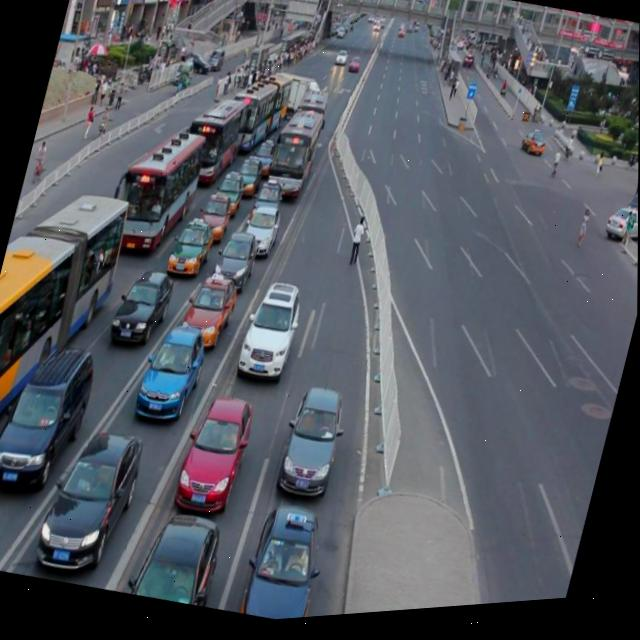bus: (264, 70, 324, 126)
car: (33, 419, 148, 582), (0, 337, 101, 498), (235, 502, 334, 626), (172, 390, 258, 522), (129, 503, 226, 614), (271, 383, 353, 507), (133, 320, 212, 429), (235, 277, 307, 385), (109, 263, 177, 352), (176, 269, 241, 357), (165, 213, 217, 284), (210, 230, 261, 298), (240, 202, 283, 263), (193, 189, 235, 247), (248, 178, 287, 229), (210, 169, 248, 219), (601, 209, 639, 256), (232, 156, 264, 201), (248, 140, 278, 182), (517, 133, 548, 167)
van: (0, 173, 133, 488), (102, 120, 209, 265), (175, 95, 250, 194), (221, 68, 297, 163), (260, 107, 325, 208), (288, 88, 333, 154)
